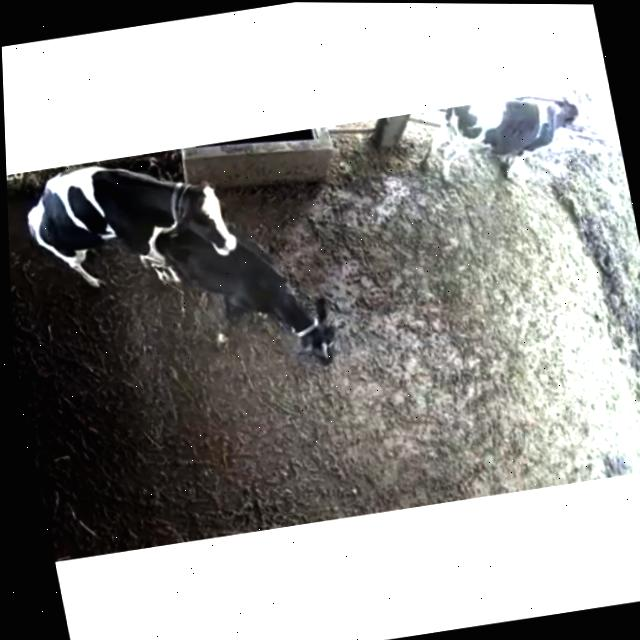ride: (5, 139, 255, 323)
